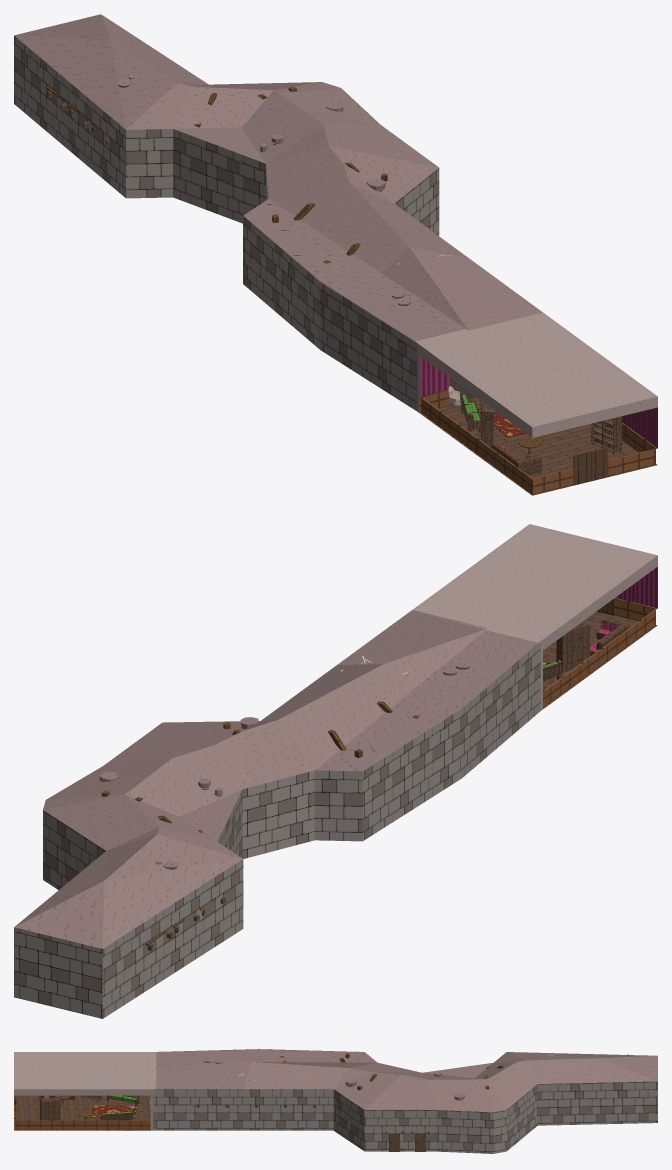
Rendered from kopalnia level.fbx.
3 views of the same model, one above another, from view 1: azimuth 30°, elevation 25°; view 2: azimuth 150°, elevation 25°; view 3: azimuth 270°, elevation 25° (orthographic). The views are drawn at different scales.
Visible parts, largest first — view 1: Cube.016, Cube, Cube.022, Cube.015, Cube.021, Cube.044; view 2: Cube.016, Cube, Cube.022, Cube.015, Cube.043, Cube.021; view 3: Cube, Cube.016, Cube.022, Cube.015, Cube.044, Cube.021, Plane.008, Plane.010, Plane.009, Cube.005, Cube.014.
Part boxes in pixels (x1=…): Cube.016: x1=14, y1=14, x2=542, y2=341; Cube: x1=14, y1=36, x2=439, y2=411; Cube.022: x1=420, y1=312, x2=657, y2=427; Cube.015: x1=417, y1=343, x2=657, y2=495; Cube.021: x1=415, y1=314, x2=543, y2=413; Cube.044: x1=591, y1=416, x2=622, y2=454; Cube.016: x1=14, y1=610, x2=539, y2=948; Cube: x1=14, y1=641, x2=540, y2=1018; Cube.022: x1=413, y1=524, x2=657, y2=640; Cube.015: x1=540, y1=555, x2=657, y2=708; Cube.043: x1=556, y1=622, x2=590, y2=673; Cube.021: x1=413, y1=609, x2=542, y2=710; Cube: x1=153, y1=1049, x2=657, y2=1153; Cube.016: x1=154, y1=1049, x2=657, y2=1112; Cube.022: x1=14, y1=1052, x2=151, y2=1089; Cube.015: x1=14, y1=1089, x2=153, y2=1130; Cube.044: x1=39, y1=1097, x2=60, y2=1120; Cube.021: x1=150, y1=1052, x2=156, y2=1130; Plane.008: x1=90, y1=1104, x2=137, y2=1118; Plane.010: x1=100, y1=1111, x2=133, y2=1120; Plane.009: x1=107, y1=1095, x2=139, y2=1105; Cube.005: x1=415, y1=1133, x2=425, y2=1151; Cube.014: x1=389, y1=1133, x2=399, y2=1151.
Bounding box in the file's own units: 1919 × 803 × 8173.
Materials: 20 (20 with a texture image).
